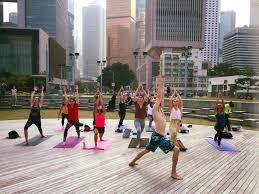people: (139, 99, 182, 180), (24, 98, 47, 143), (167, 96, 183, 147), (63, 98, 80, 143), (134, 95, 144, 150), (93, 101, 104, 148), (214, 100, 223, 146), (117, 93, 125, 132), (223, 100, 232, 128)
